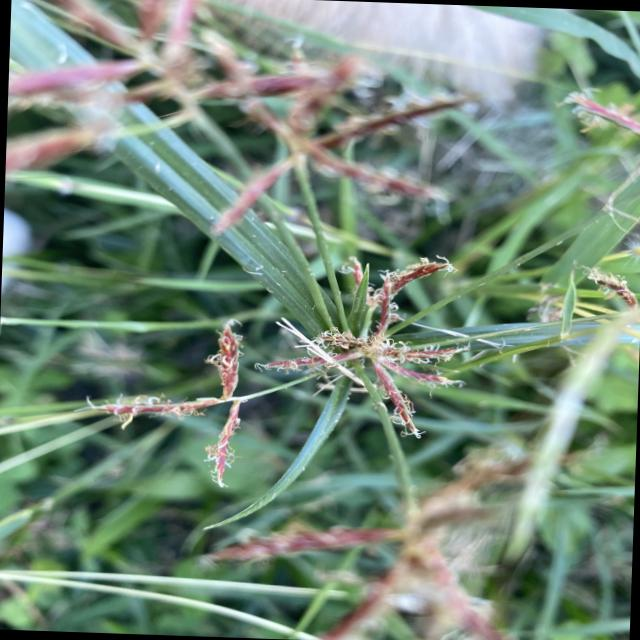cyperus: (6, 0, 481, 231), (84, 231, 462, 469), (205, 425, 564, 640)
